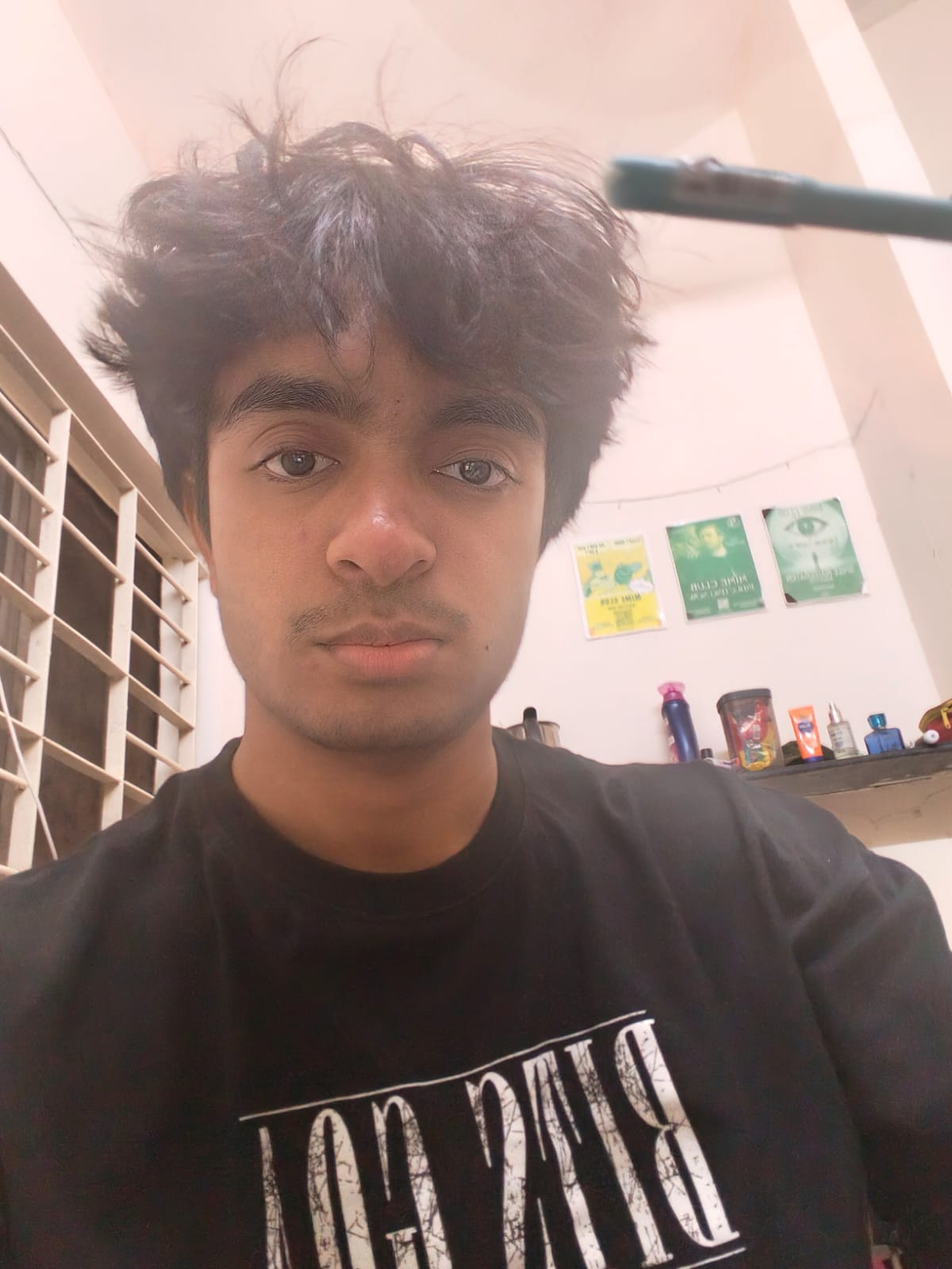pen: (589, 115, 940, 280)
